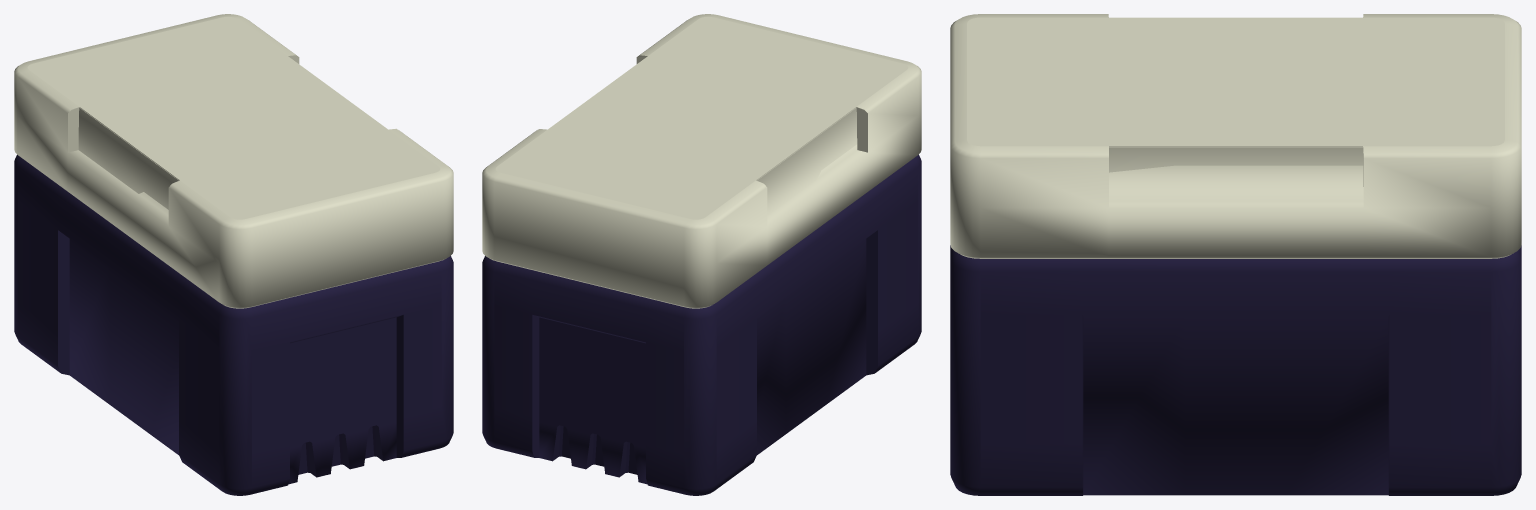
The model's file is pipette_box.fbx.
The picture shows the model from 3 angles, left to right: view 1: azimuth 30°, elevation 25°; view 2: azimuth 150°, elevation 25°; view 3: azimuth 270°, elevation 25°; orthographic projection. The views are drawn at different scales.
Visible parts, largest first — view 1: cover, mainbox; view 2: cover, mainbox; view 3: cover, mainbox.
Part boxes in pixels (x1,y1,x2,y2): cover: (14, 14, 453, 308); mainbox: (14, 155, 453, 495); cover: (482, 14, 921, 308); mainbox: (482, 155, 921, 495); cover: (950, 14, 1521, 258); mainbox: (950, 245, 1521, 495).
Bounding box in the file's own units: 11.11 × 12.66 × 18.77.
